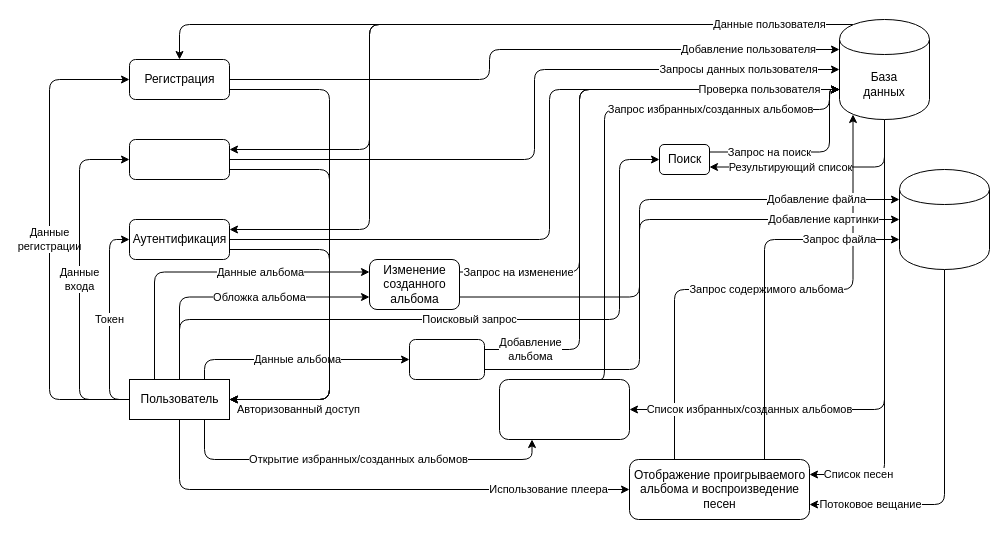
Some shapes in this 1007 by 537 pixel diagram are drawn without their labels. Here are the shapes that lost their labels. From the top down, the centre of each, then its label:
(179,159): Авторизация
(944,219): Хранилище
(446,359): Создание альбома
(564,409): Отображение избранных/созданных альбомов
